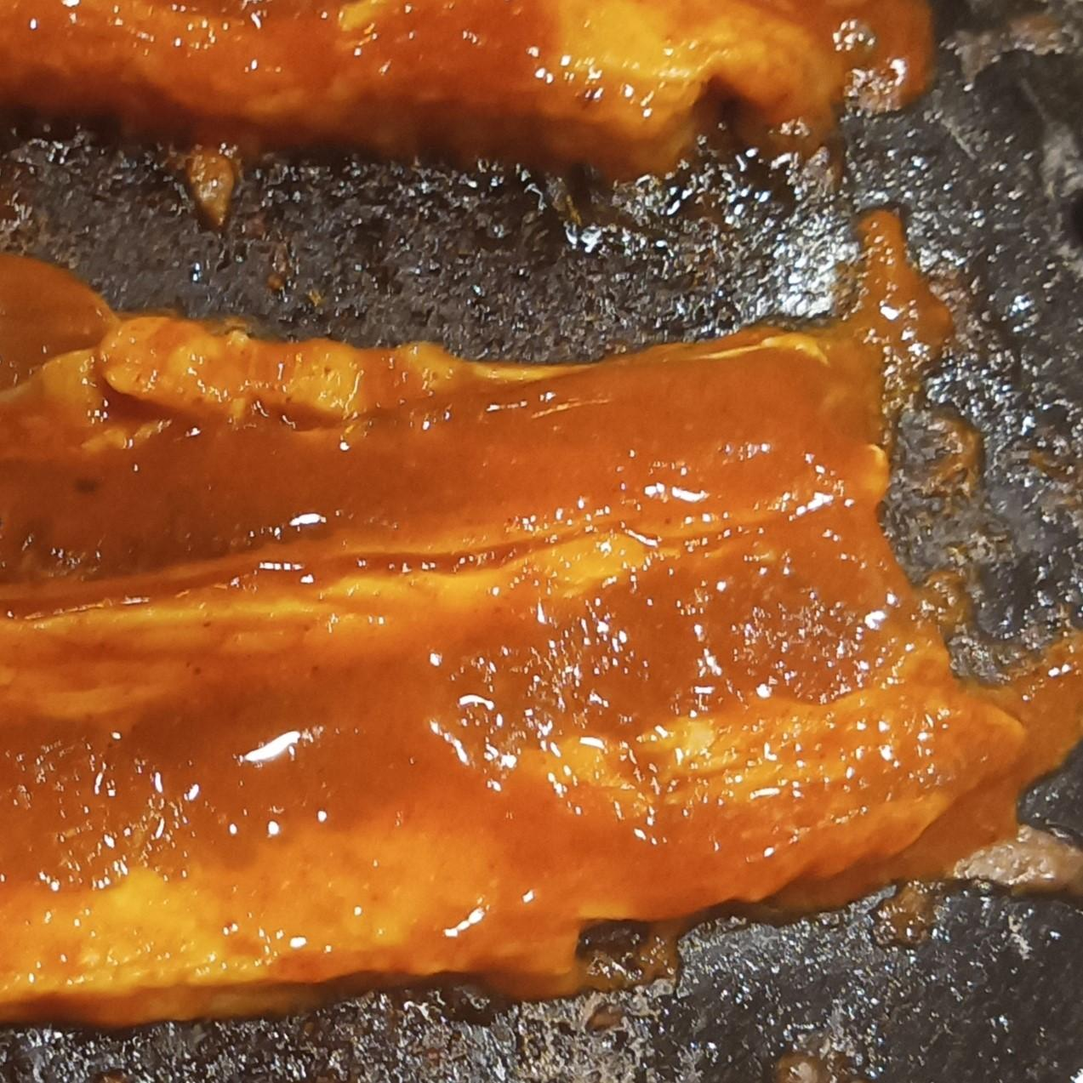Undercooked: (0, 211, 1082, 1033), (0, 0, 939, 183)
